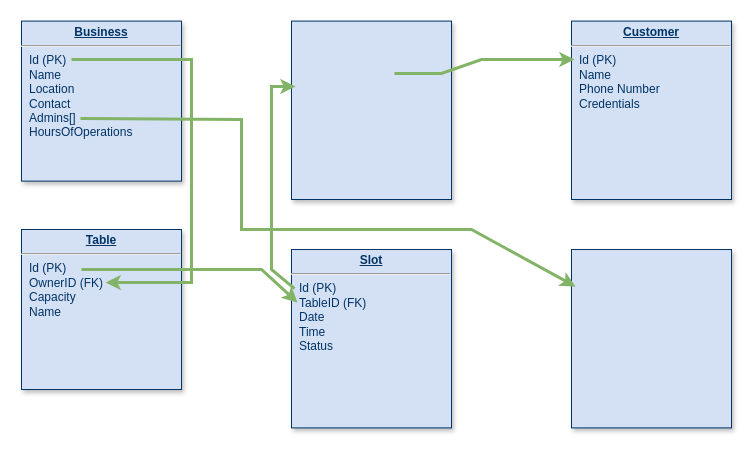
Some shapes in this 755 by 453 pixel diagram are drawn without their labels. The centre of each missing label's shape, as x and y in pixels:
Admin Id (PK) Name Credentials: pixel 652 339
Booking Id (PK) CustomerID (FK) SlotID (FK) Date Time NbOfPeople Notes: pixel 372 111
